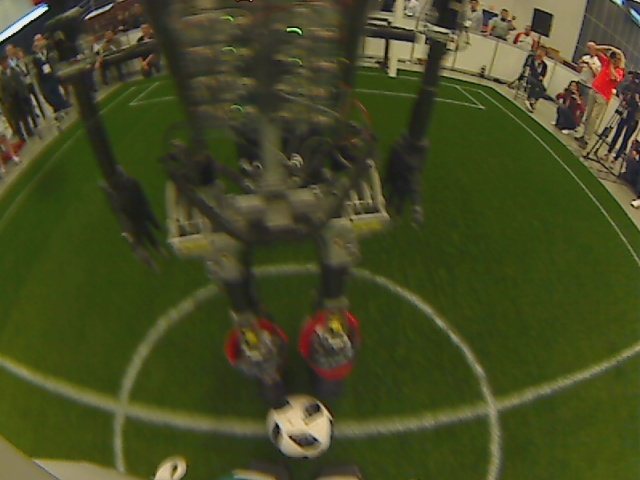ball: (262, 397, 336, 466)
